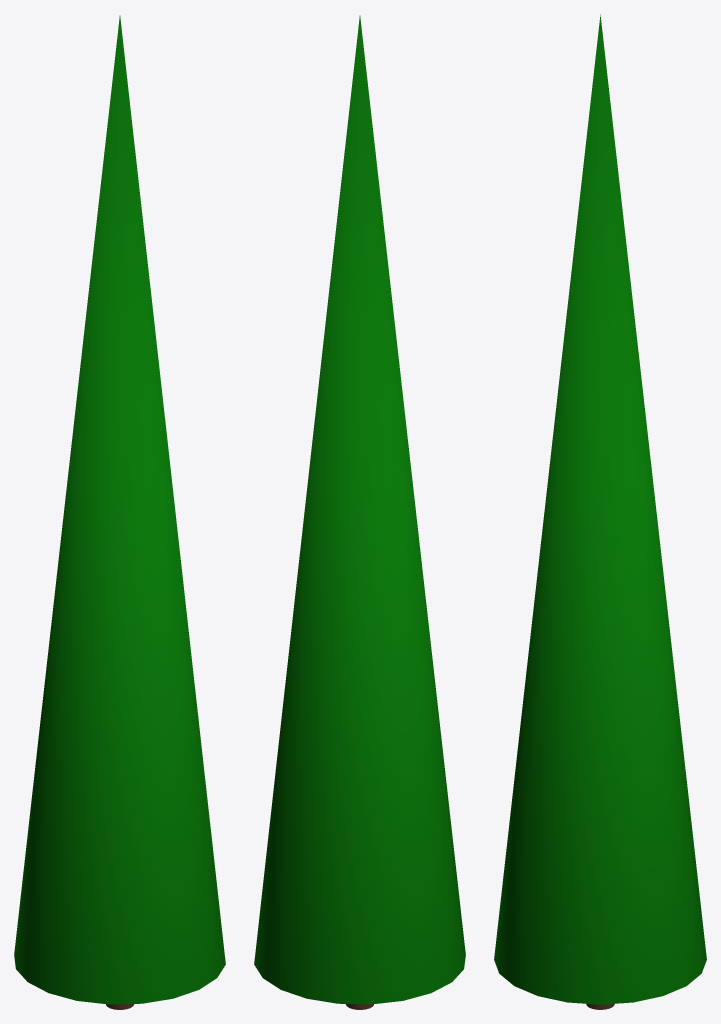
File: TempTree.fbx
3 views of the same model, side by side, from view 1: azimuth 30°, elevation 25°; view 2: azimuth 150°, elevation 25°; view 3: azimuth 270°, elevation 25° (orthographic).
Visible parts, largest first — view 1: pCone1; view 2: pCone1; view 3: pCone1.
Part boxes in pixels (bbox=[...]): pCone1: bbox=[14, 15, 225, 1004]; pCone1: bbox=[254, 15, 465, 1004]; pCone1: bbox=[494, 14, 706, 1004].
Bounding box in the file's own units: 219 × 1125 × 219.
